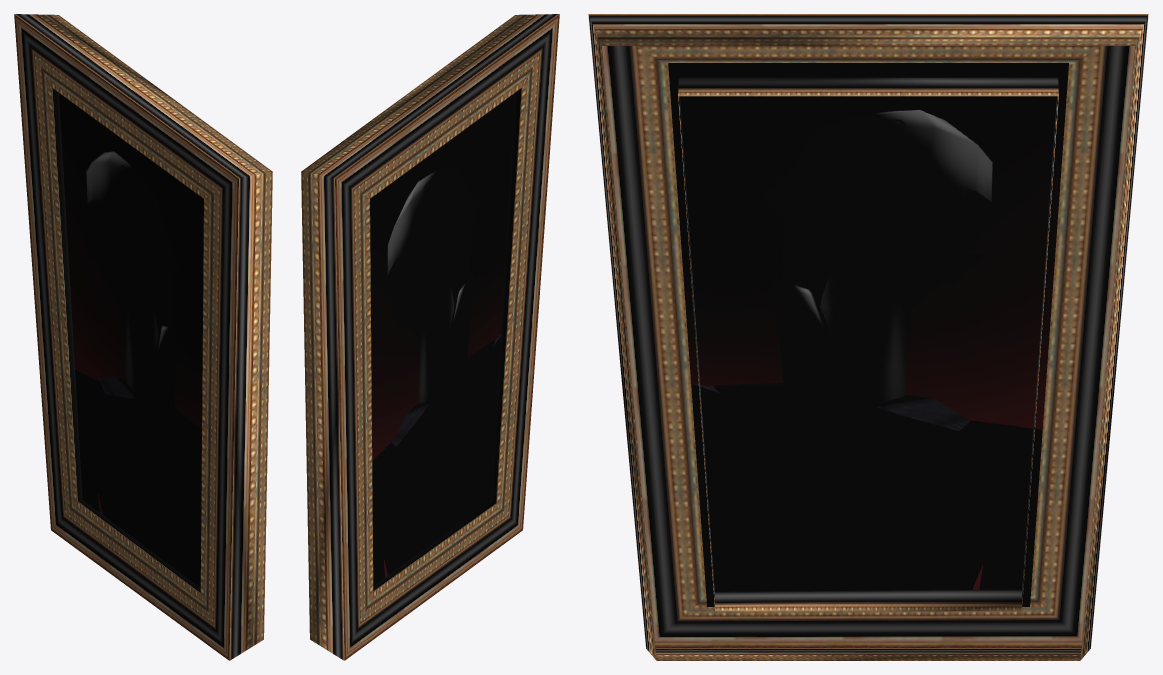
Rendered from ImportantPortrait.fbx.
3 views of the same model, side by side, from view 1: azimuth 30°, elevation 25°; view 2: azimuth 150°, elevation 25°; view 3: azimuth 270°, elevation 25° (orthographic). The views are drawn at different scales.
Visible parts, largest first — view 1: ImportantPortrait; view 2: ImportantPortrait; view 3: ImportantPortrait.
Boxes of the visible parts, x1=… form: ImportantPortrait: x1=14, y1=14, x2=272, y2=660; ImportantPortrait: x1=301, y1=14, x2=559, y2=660; ImportantPortrait: x1=588, y1=14, x2=1148, y2=660.
Size of the model in its own units: 37.42 by 343 by 278.
